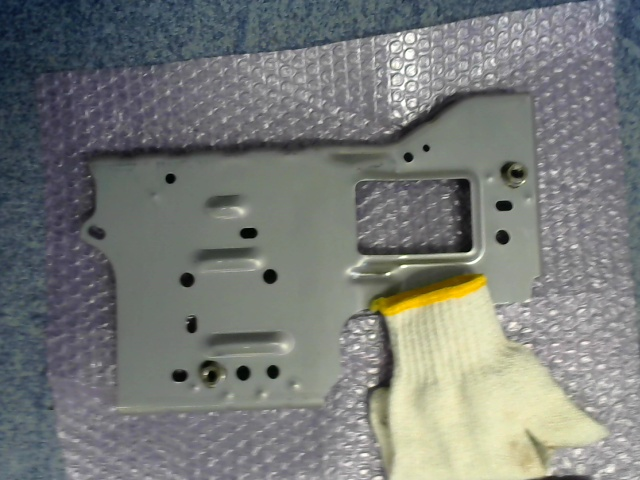dog: (500, 159, 529, 189), (198, 360, 227, 389)
